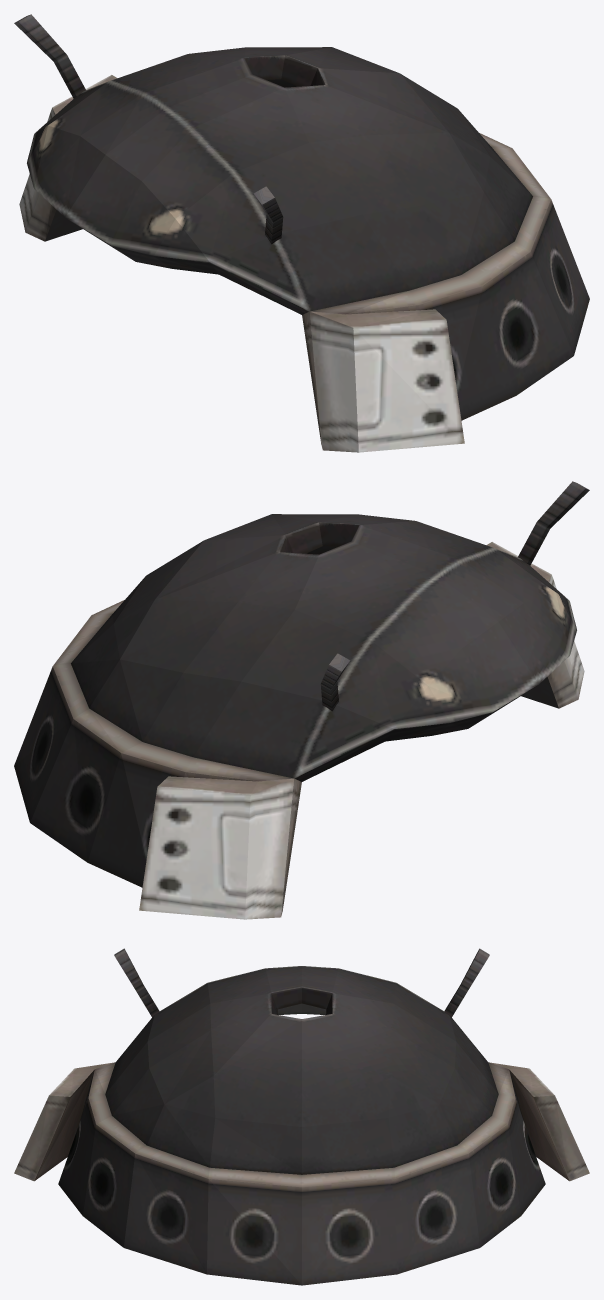
Rendered from Whale_ladybugHelmet.obj.
The picture shows the model from 3 angles, top to bottom: view 1: azimuth 30°, elevation 25°; view 2: azimuth 150°, elevation 25°; view 3: azimuth 270°, elevation 25°; orthographic projection. The views are drawn at different scales.
Visible parts, largest first — view 1: Whale_ladybugHelmet_tri; view 2: Whale_ladybugHelmet_tri; view 3: Whale_ladybugHelmet_tri.
Part boxes in pixels (<box>): Whale_ladybugHelmet_tri: <box>14,14,589,452</box>; Whale_ladybugHelmet_tri: <box>14,481,589,919</box>; Whale_ladybugHelmet_tri: <box>14,948,589,1285</box>.
Bounding box in the file's own units: 1.62 × 0.7872 × 2.16.
Materials: 1 (1 with a texture image).
